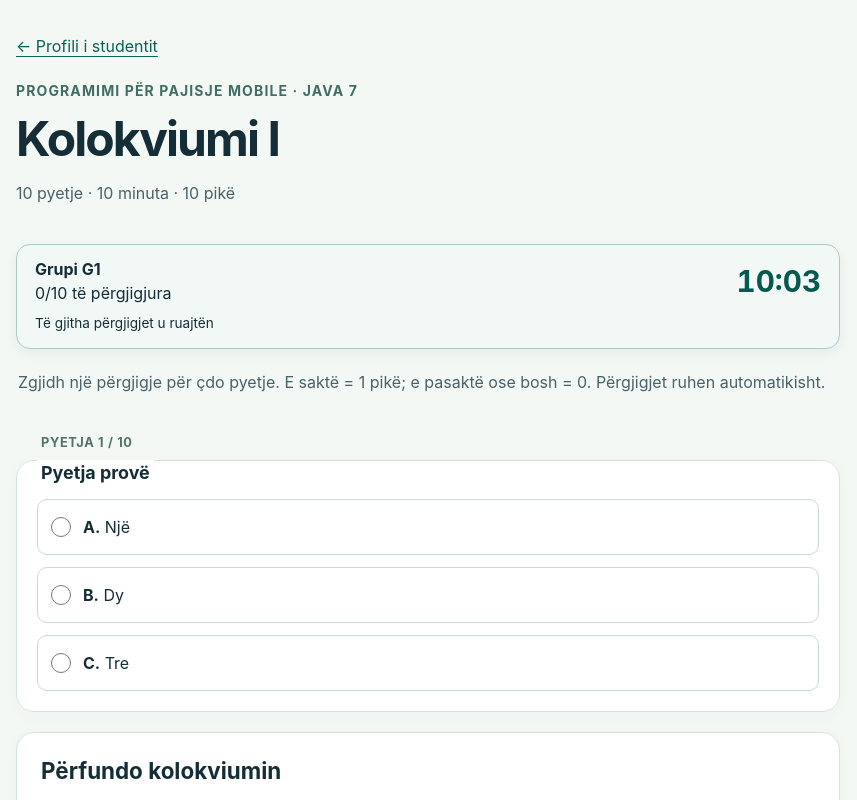
Test: retains a failed visible answer through polling and flushes its retry before confirming submit
Click the radio button labelled "B. Dy" at [61, 595], box [51, 585, 71, 605]
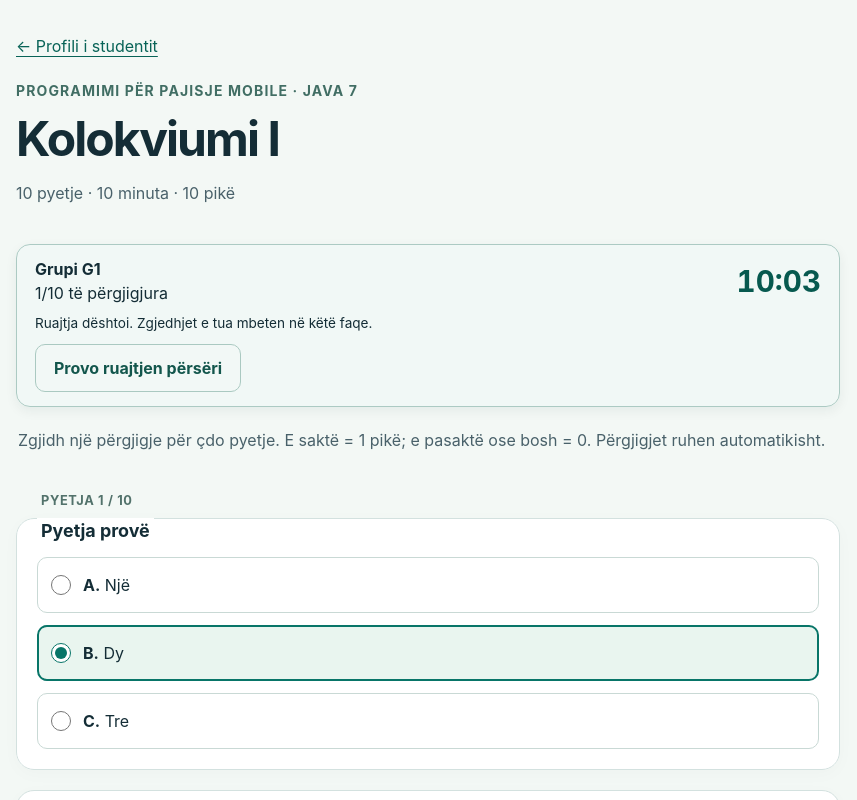
Expected: the radio button labelled "B. Dy" is checked, [51, 643, 71, 663]
Expected: the text "Ruajtja dështoi. Zgjedhjet e tua mbeten në këtë faqe." is shown, [35, 315, 372, 331]
Click the button "Provo ruajtjen përsëri" at [138, 368], box [35, 344, 241, 392]
(page scrolled)
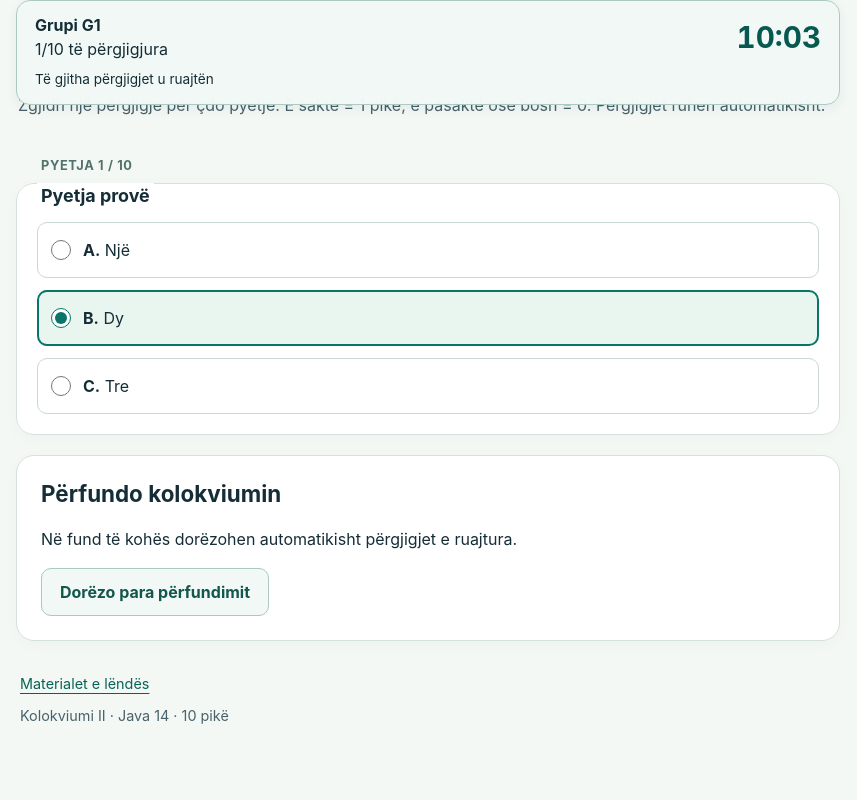
Expected: the text "Të gjitha përgjigjet u ruajtën" is shown, [35, 71, 214, 87]
Click the button "Dorëzo para përfundimit" at [155, 592], box [41, 568, 269, 616]
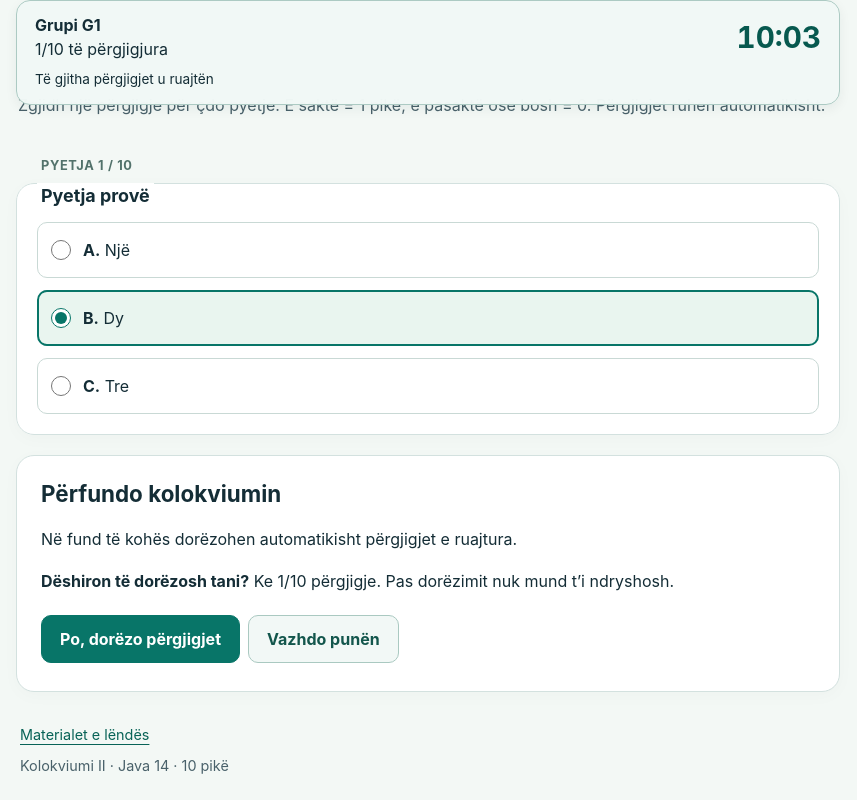
Click the button "Po, dorëzo përgjigjet" at [140, 639], box [41, 615, 240, 663]
(page scrolled)
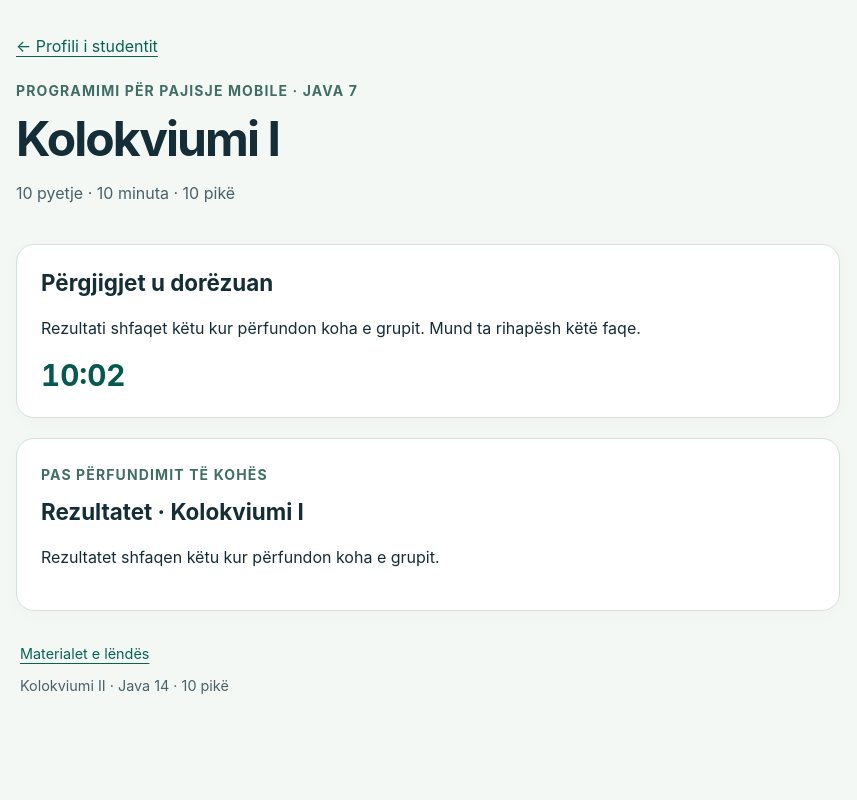
Expected: the heading "Përgjigjet u dorëzuan" is shown, [41, 269, 273, 296]
